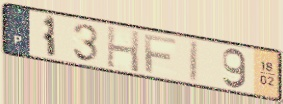1: (41, 14, 58, 61)
3: (71, 23, 101, 63)
9: (221, 47, 248, 90)
F: (142, 32, 178, 75)
H: (105, 24, 141, 75)
I: (187, 38, 201, 86)
